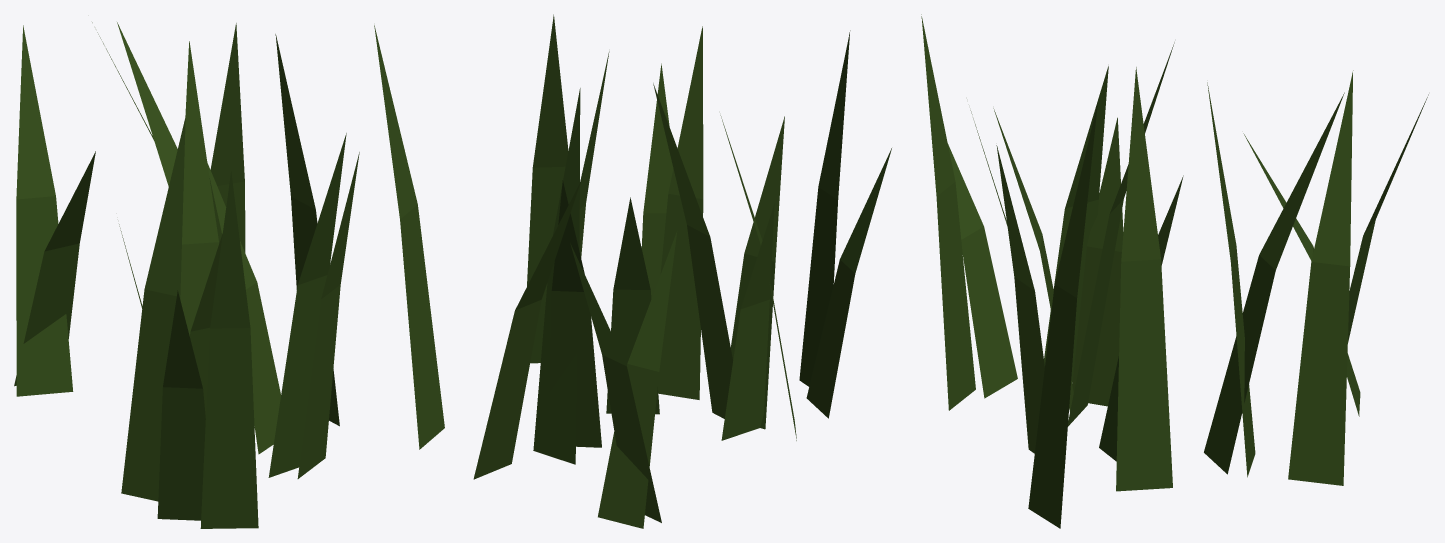
File: hierba_alta.fbx
3 views of the same model, side by side, from view 1: azimuth 30°, elevation 25°; view 2: azimuth 150°, elevation 25°; view 3: azimuth 270°, elevation 25° (orthographic). The views are drawn at different scales.
Parts seen in each view (by area): view 1: hierba_alta; view 2: hierba_alta; view 3: hierba_alta.
Part boxes in pixels (<box>): hierba_alta: <box>14,22,444,528</box>; hierba_alta: <box>473,14,891,528</box>; hierba_alta: <box>921,14,1428,528</box>.
Size of the model in its own units: 0.9307 by 1.08 by 1.24.
